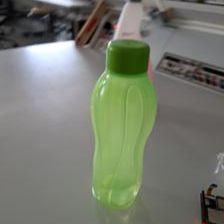bottle: (87, 40, 159, 206)
